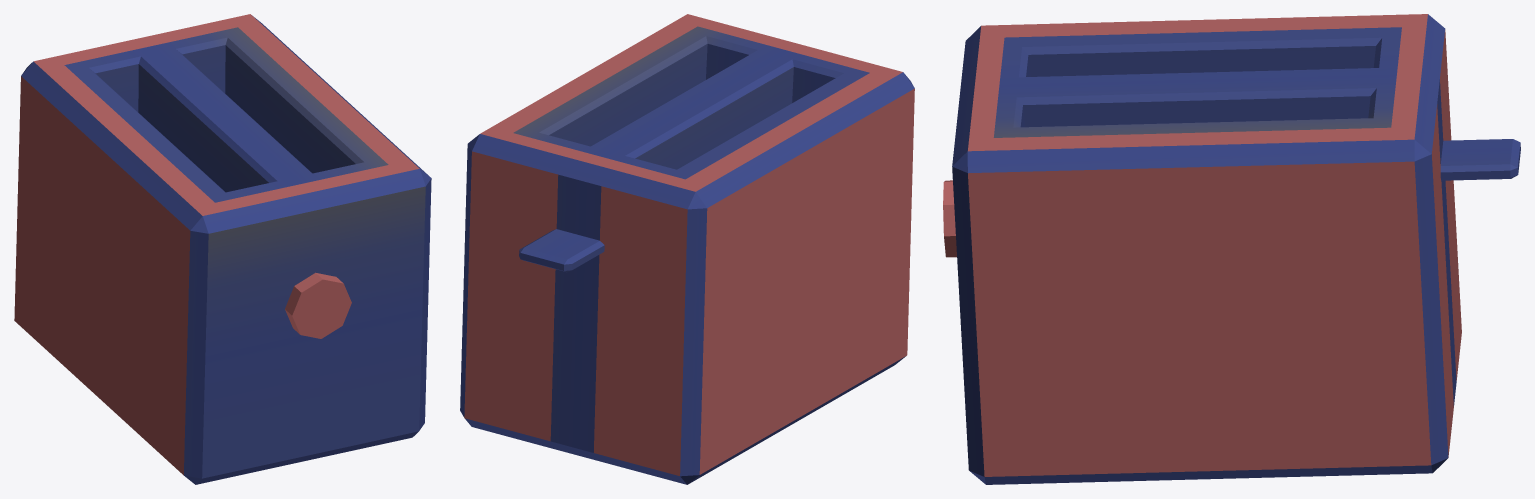
Rendered from Kitchen_Toaster.fbx.
3 renders of one model, left to right at view 1: azimuth 30°, elevation 25°; view 2: azimuth 150°, elevation 25°; view 3: azimuth 270°, elevation 25°, orthographic. The views are drawn at different scales.
Parts seen in each view (by area): view 1: Kitchen_Toaster; view 2: Kitchen_Toaster; view 3: Kitchen_Toaster.
Part boxes in pixels (left/top/right/bottom): Kitchen_Toaster: left=14, top=14, right=431, bottom=484; Kitchen_Toaster: left=460, top=14, right=914, bottom=484; Kitchen_Toaster: left=943, top=14, right=1520, bottom=484.
Size of the model in its own units: 24.78 by 27.62 by 40.87.
